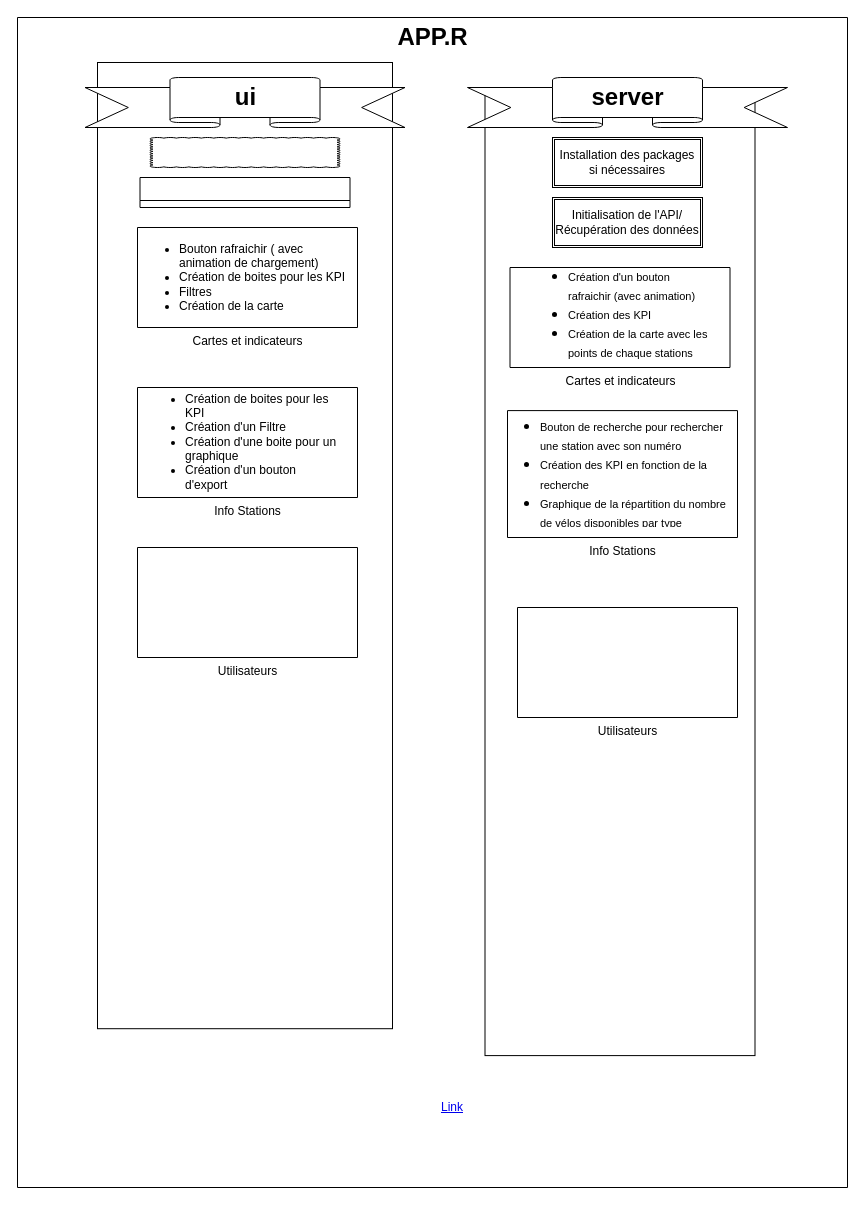
Some shapes in this 865 by 1205 pixel diagram are drawn without their labels. The shapes that lost their labels are listed below. From the top down, each one's centre as x and y in pixels, then its label:
[244,152]: Interface utilisateur
[244,192]: Création de plusieurs onglets
